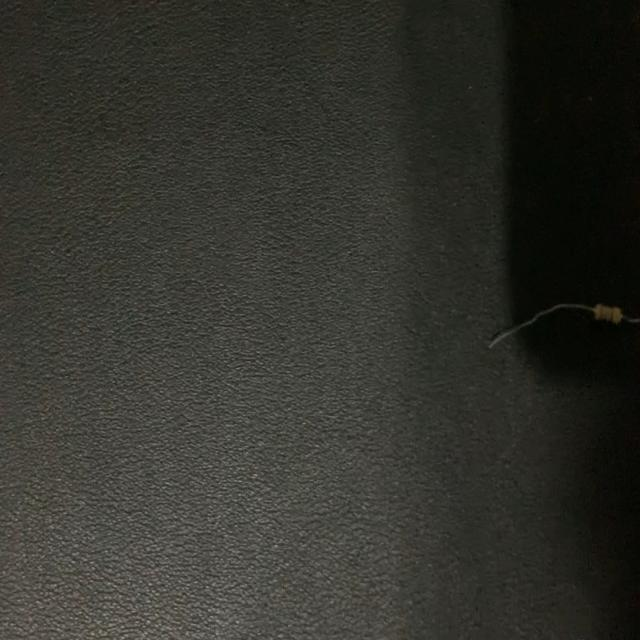resistor: (481, 283, 640, 364)
